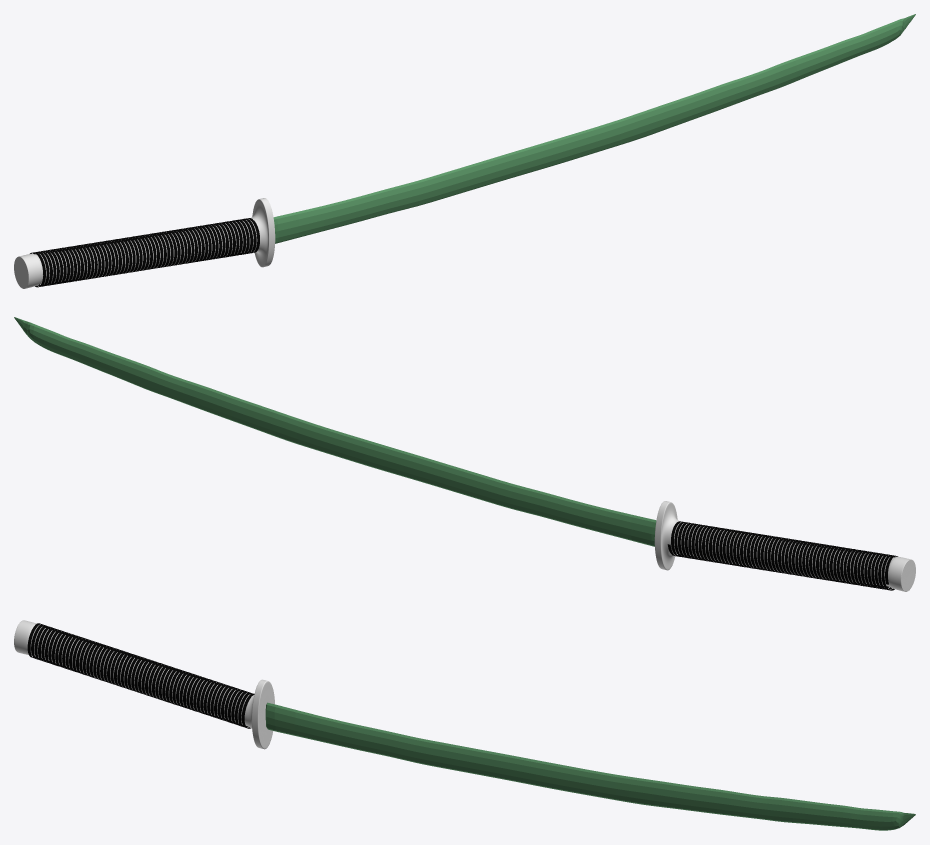
The model's file is zutkatana.fbx.
3 renders of one model, top to bottom at view 1: azimuth 30°, elevation 25°; view 2: azimuth 150°, elevation 25°; view 3: azimuth 330°, elevation 25°, orthographic.
Visible parts, largest first — view 1: Cube, Plane.002, Cylinder; view 2: Cube, Plane.002, Cylinder; view 3: Cube, Plane.002, Cylinder.
Boxes of the visible parts, x1=… form: Cube: x1=273, y1=14, x2=915, y2=243; Plane.002: x1=30, y1=218, x2=259, y2=287; Cylinder: x1=14, y1=198, x2=275, y2=288; Cube: x1=14, y1=317, x2=656, y2=546; Plane.002: x1=667, y1=521, x2=897, y2=590; Cylinder: x1=654, y1=501, x2=915, y2=591; Cube: x1=265, y1=702, x2=915, y2=830; Plane.002: x1=27, y1=623, x2=254, y2=728; Cylinder: x1=14, y1=620, x2=274, y2=749.
Bounding box in the file's own units: 416 × 41.35 × 13.96.
